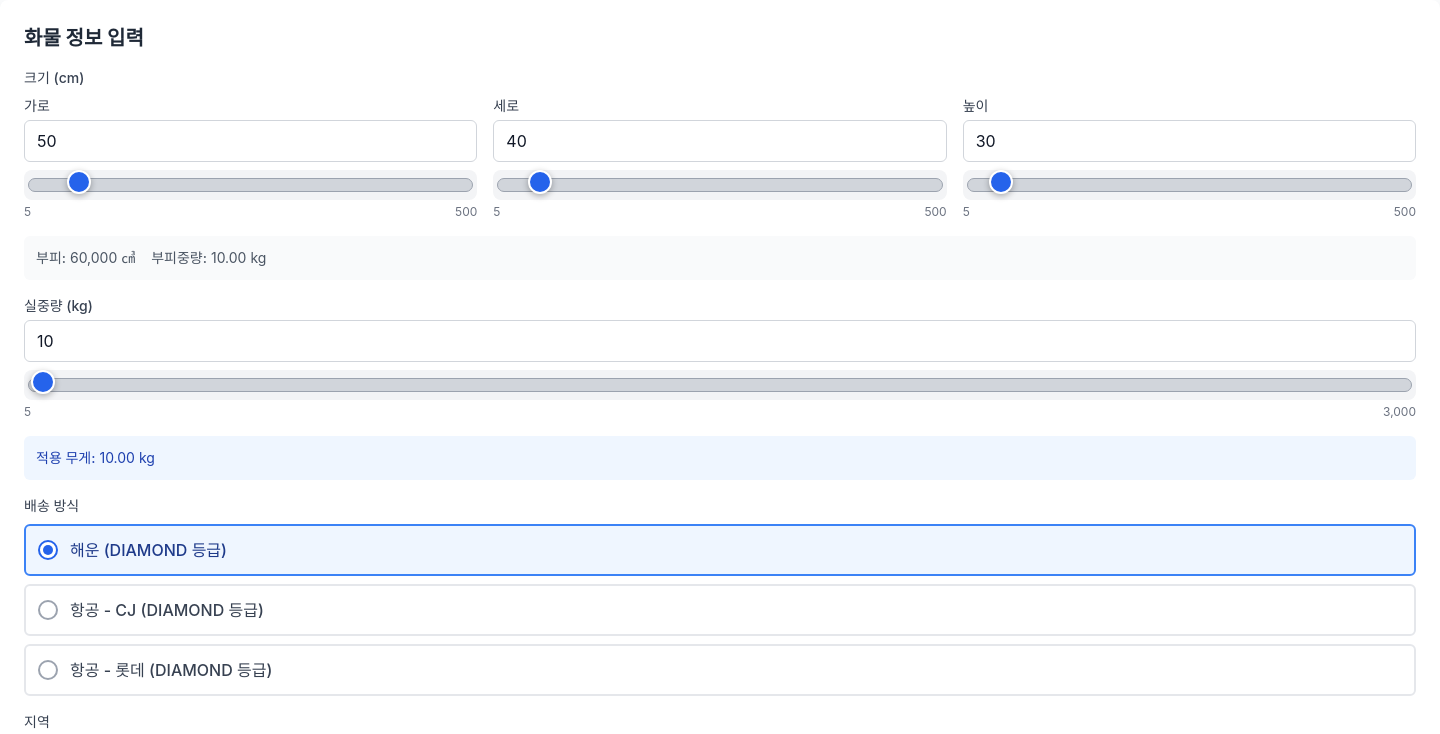
Test: QuoteForm › 유효하지 않은 입력값에 대해 에러 메시지를 표시해야 함
Replace the text in the number field labelled "가로" with "600" at (251, 141), box 24,120 -> 477,162
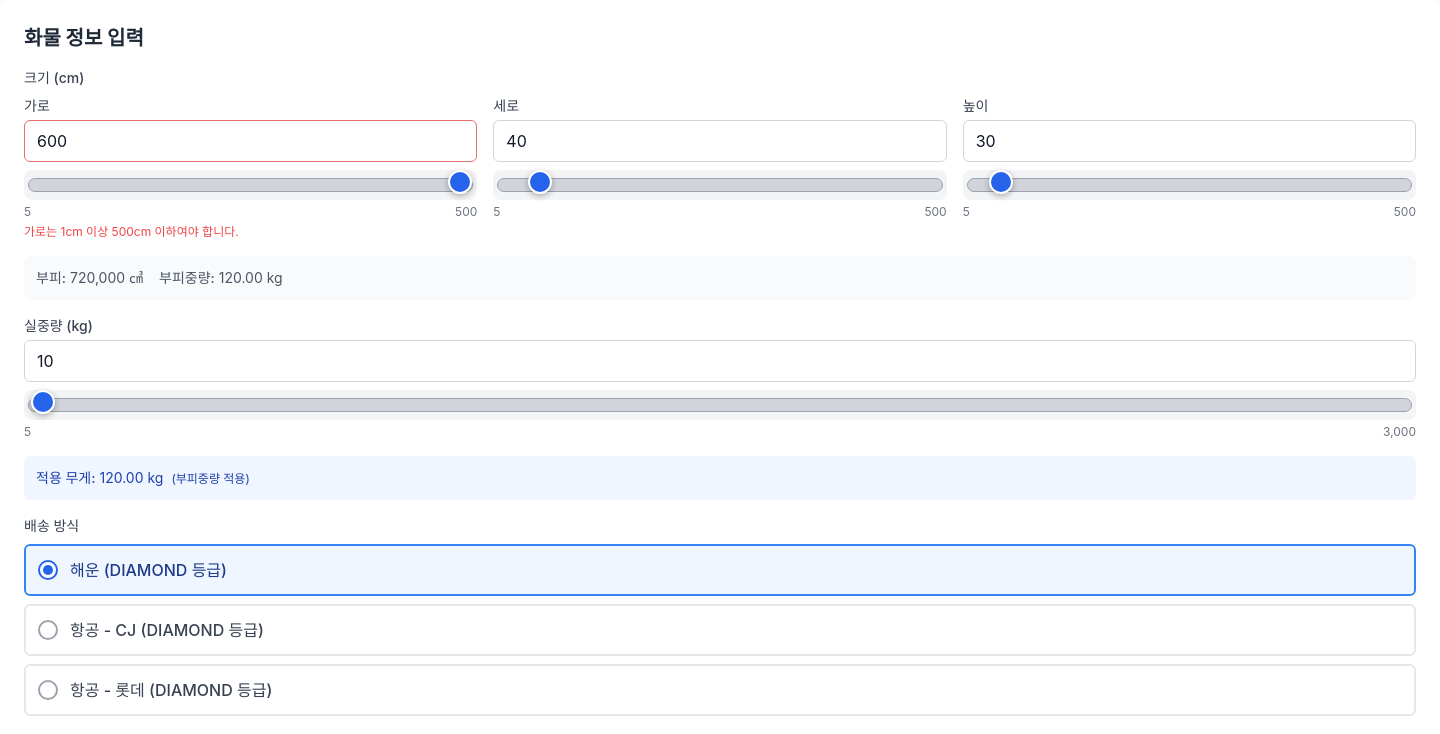
expect the text "가로는 1cm 이상 500cm 이하여야 합니다." is shown: met, box 24,224 -> 239,239
